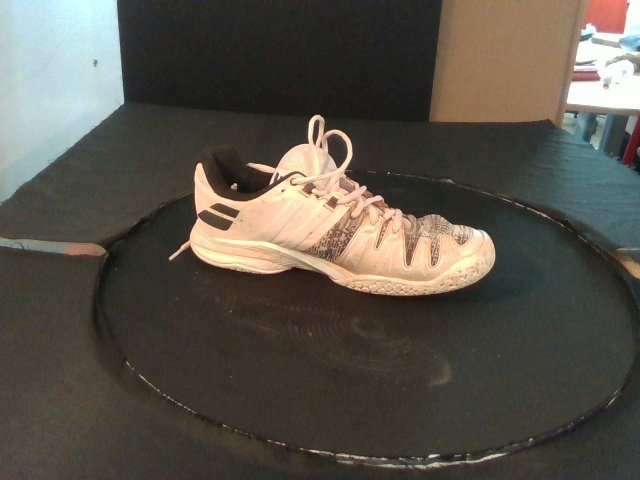shoe: (188, 142, 496, 298)
